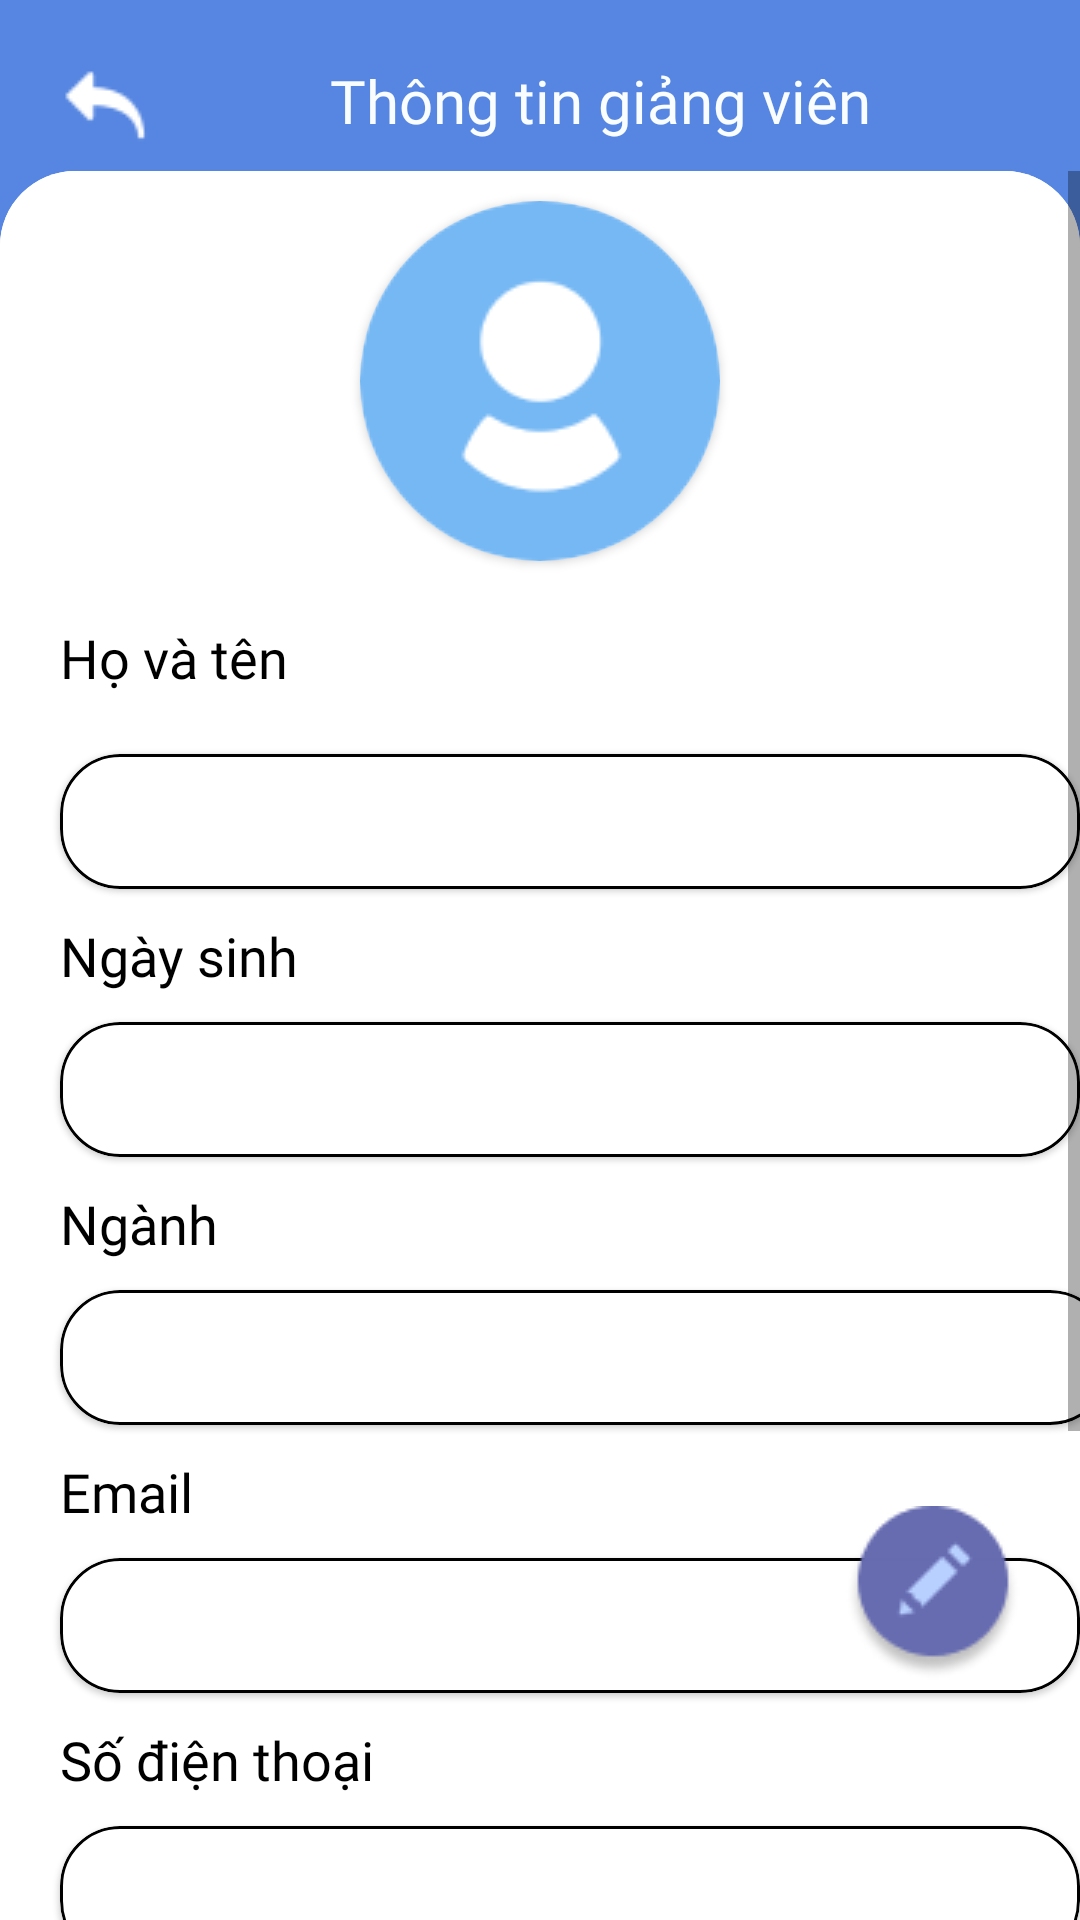

Named icons in this screenshot (1080px x 1920px) and their centers, [x,y]:
backarrow: [105,105]
edit: [933,1587]
